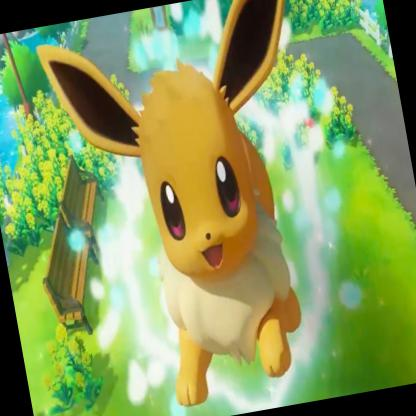Eevee: (18, 1, 380, 416)
